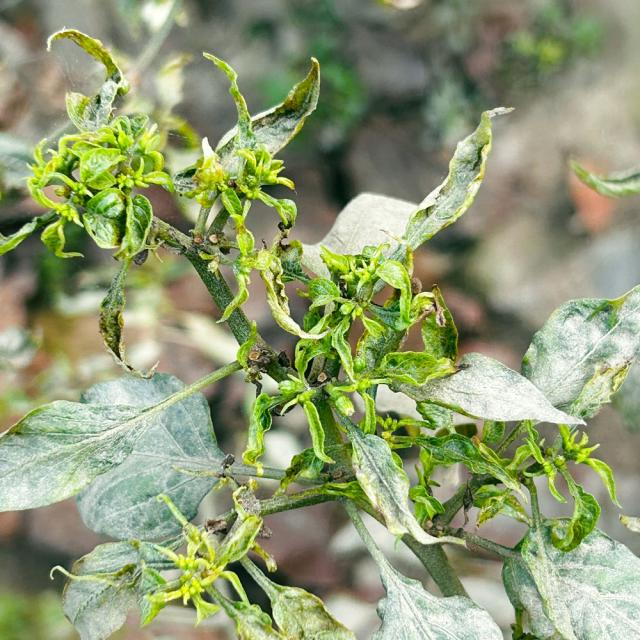Chilli_Leaf_Curl: (1, 27, 638, 638), (0, 368, 232, 544), (24, 27, 176, 263), (517, 283, 639, 423)
